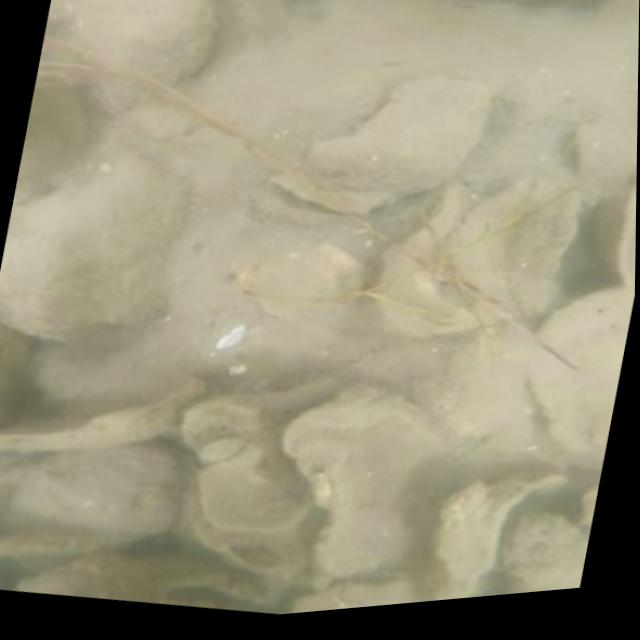Oyster-Indeterminate: (274, 382, 452, 578), (0, 154, 183, 340), (269, 70, 492, 215), (69, 0, 217, 119), (4, 443, 192, 533), (183, 375, 353, 474), (501, 513, 590, 595)
